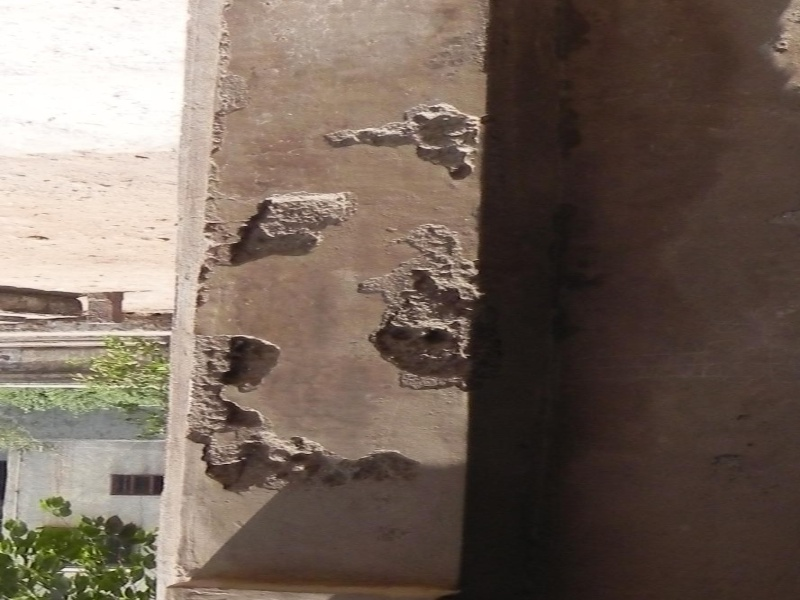Spalling: (184, 332, 353, 502), (363, 219, 511, 399), (317, 91, 490, 179), (224, 183, 356, 272)
